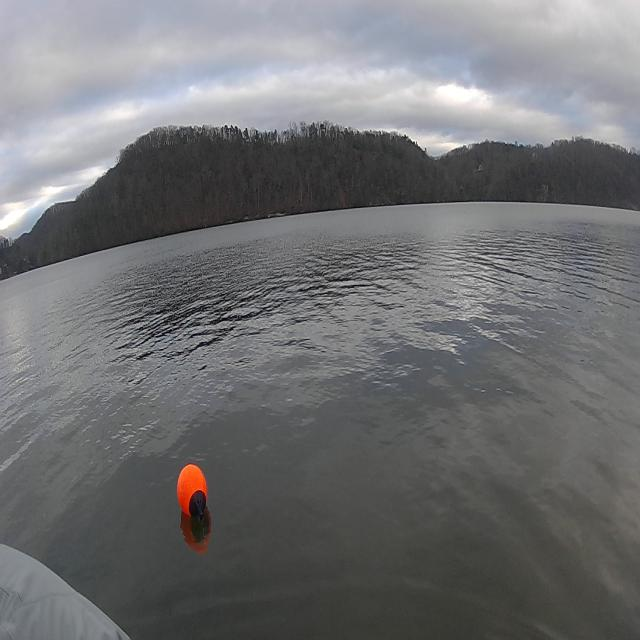Buoy: (176, 460, 210, 518)
